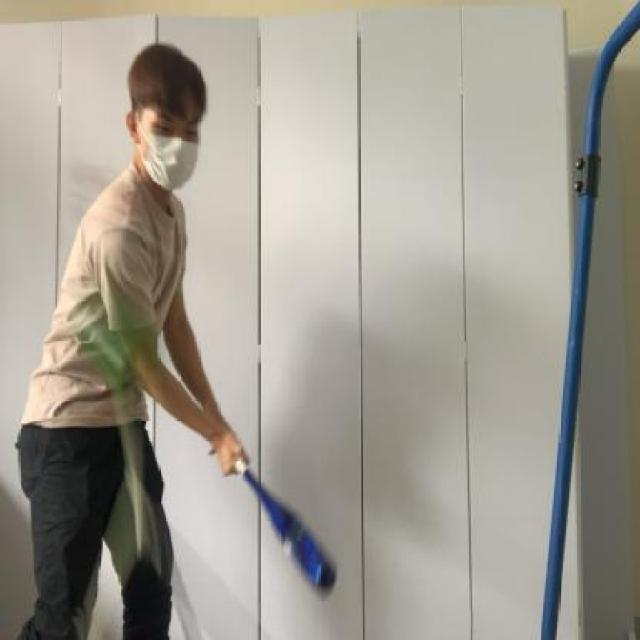baseball: (68, 285, 149, 392)
